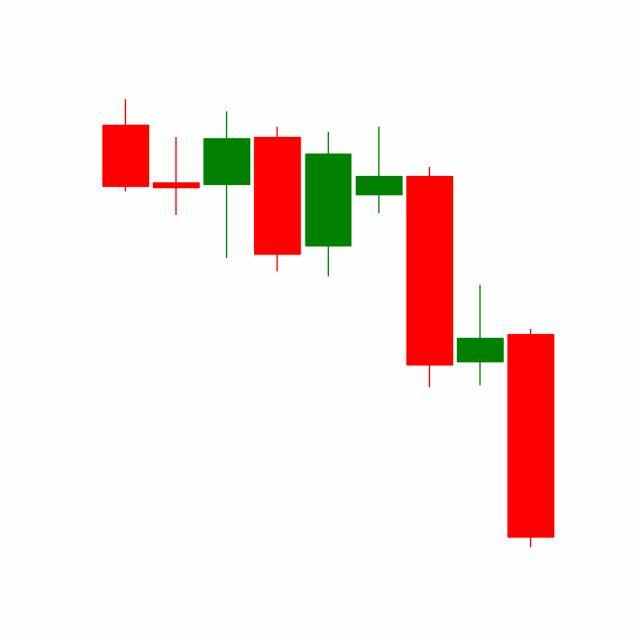Hikkake Pattern: (302, 123, 555, 549)
